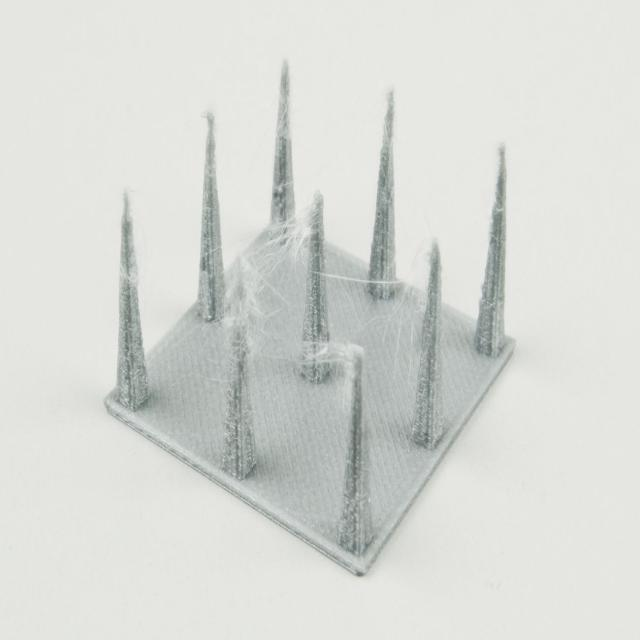stringing: (239, 217, 304, 381), (376, 222, 428, 390), (310, 330, 352, 380)
